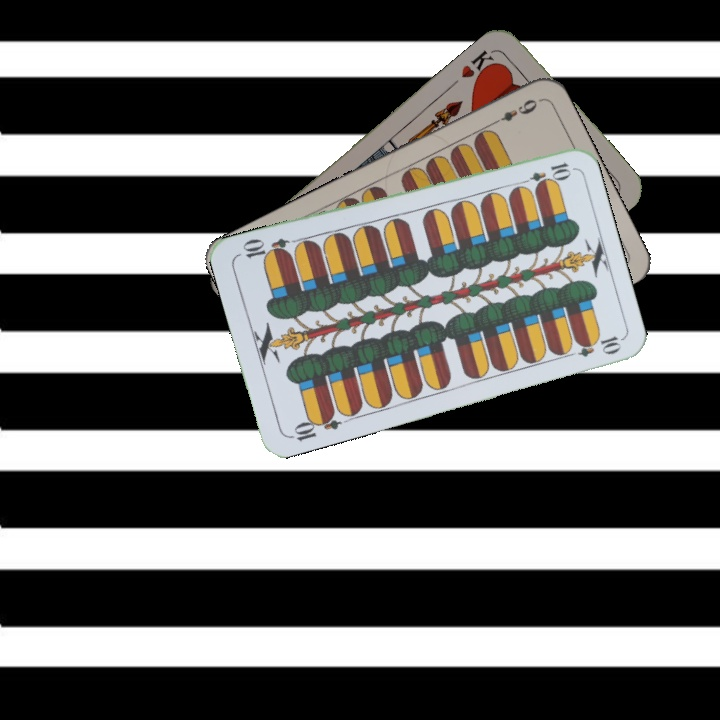E10: (285, 407, 343, 444), (515, 158, 573, 189)
E9: (487, 95, 540, 128)
HK: (457, 44, 501, 87)
